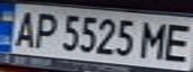2: (93, 15, 118, 56)
5: (115, 16, 142, 58), (75, 13, 100, 55), (57, 11, 81, 53)
A: (6, 7, 39, 48)
E: (160, 20, 193, 63)
M: (136, 19, 172, 61)
P: (30, 9, 60, 51)
